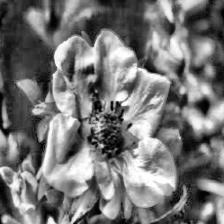Blossom Blight: (75, 92, 141, 168)
